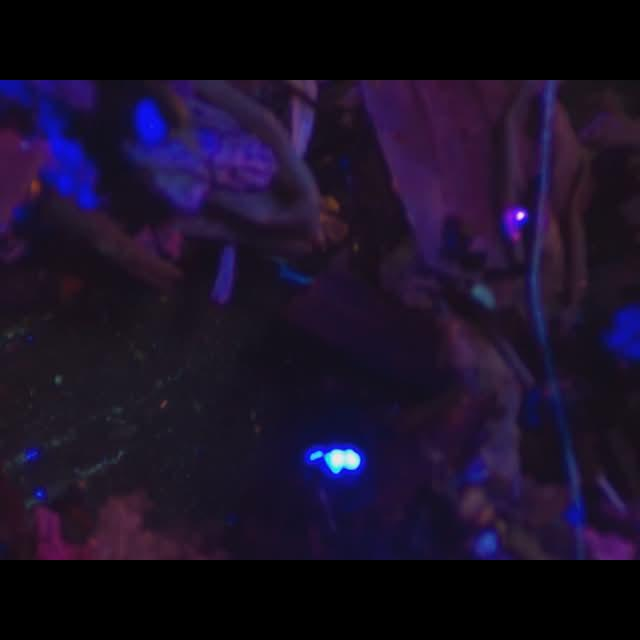microbeads: (54, 376, 62, 384)
